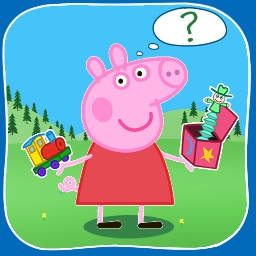Peppa: (50, 43, 187, 235)
